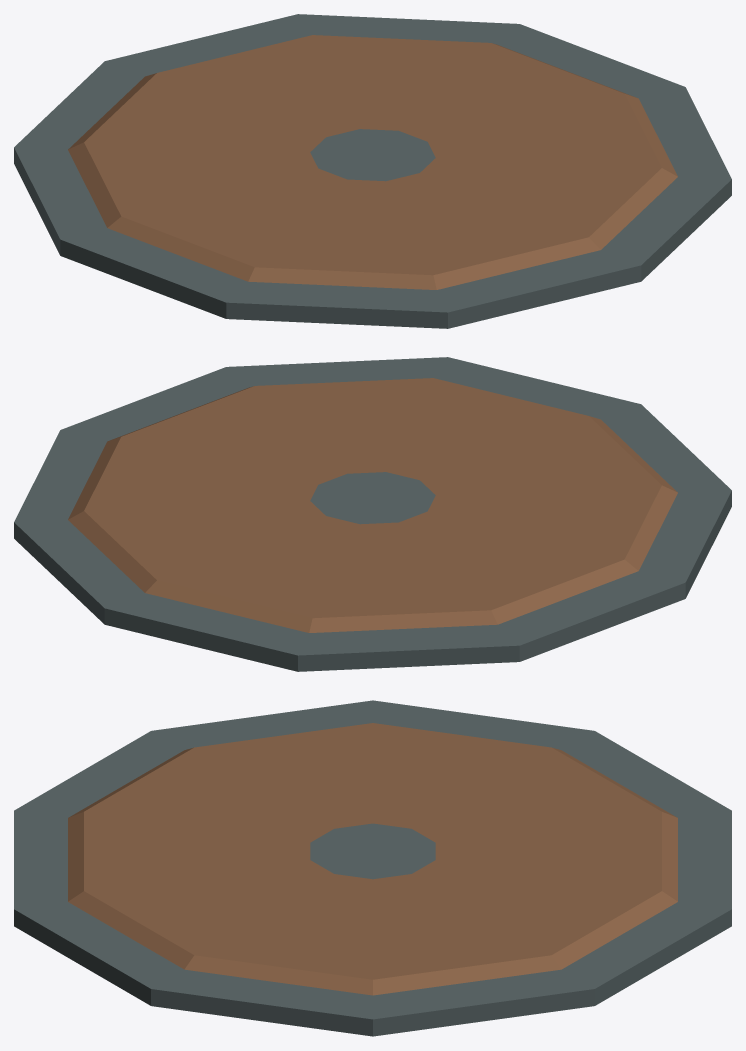
The model's file is Shield_1_Light_Brown.fbx.
3 views of the same model, one above another, from view 1: azimuth 30°, elevation 25°; view 2: azimuth 150°, elevation 25°; view 3: azimuth 270°, elevation 25° (orthographic). The views are drawn at different scales.
Visible parts, largest first — view 1: Shield_1_Light_Brown; view 2: Shield_1_Light_Brown; view 3: Shield_1_Light_Brown.
Part boxes in pixels (left/top/right/bottom): Shield_1_Light_Brown: left=14, top=14, right=731, bottom=328; Shield_1_Light_Brown: left=14, top=357, right=731, bottom=671; Shield_1_Light_Brown: left=14, top=700, right=731, bottom=1036.
Bounding box in the file's own units: 200 × 7.5 × 190.
